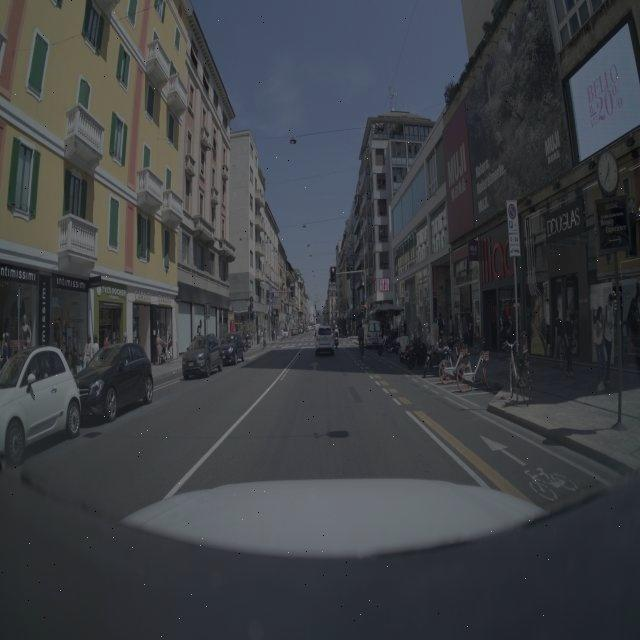Red: (323, 259, 346, 296)
